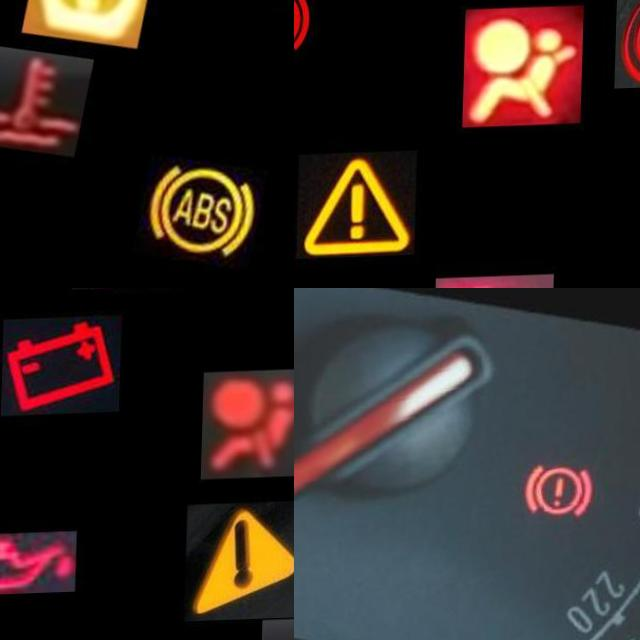Central Warning lamp: (299, 153, 420, 261), (187, 503, 294, 623)
Engine cooling system: (0, 41, 96, 162)
